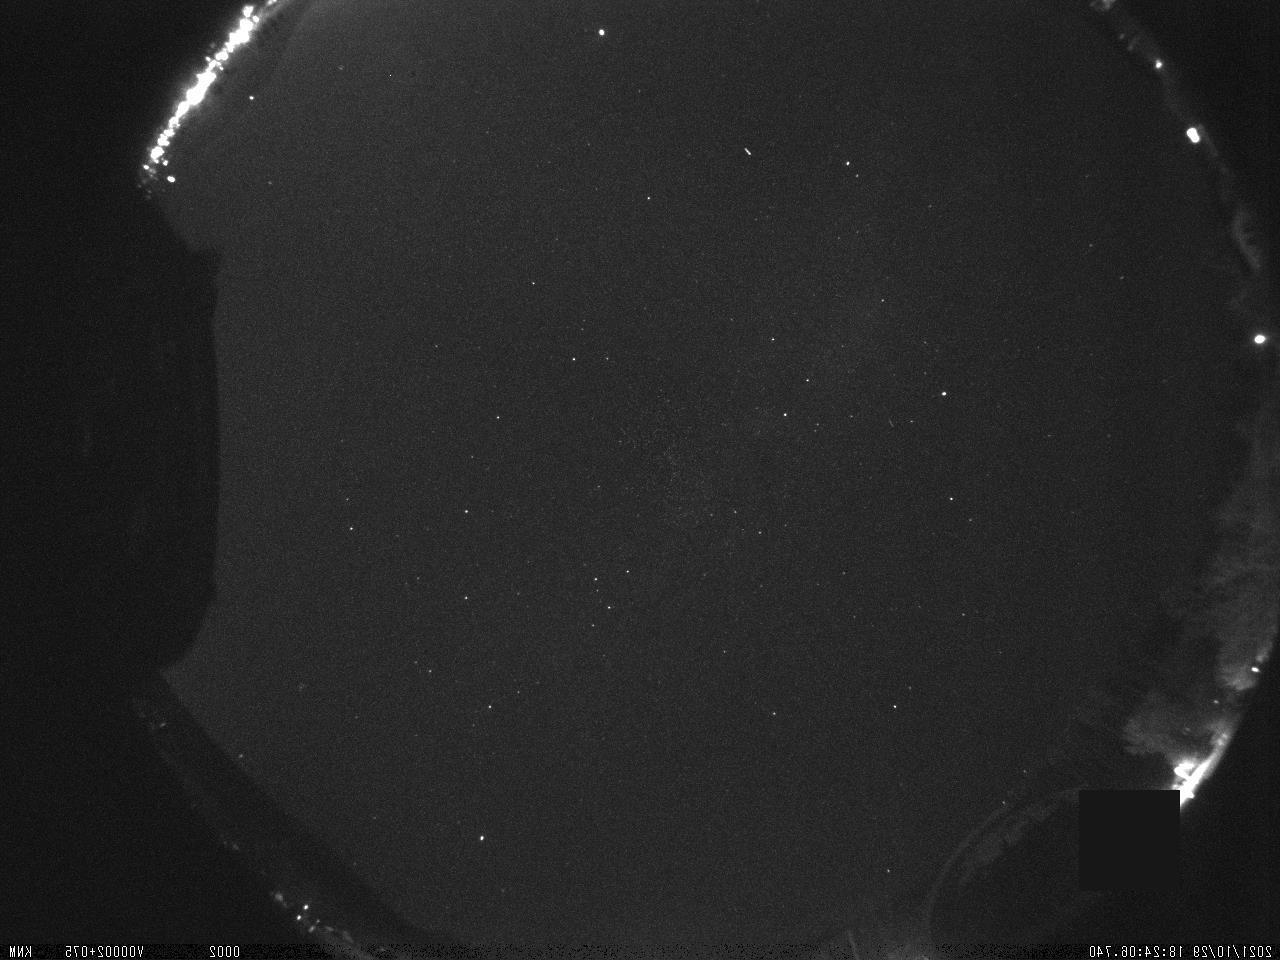meteor: (735, 134, 759, 166)
